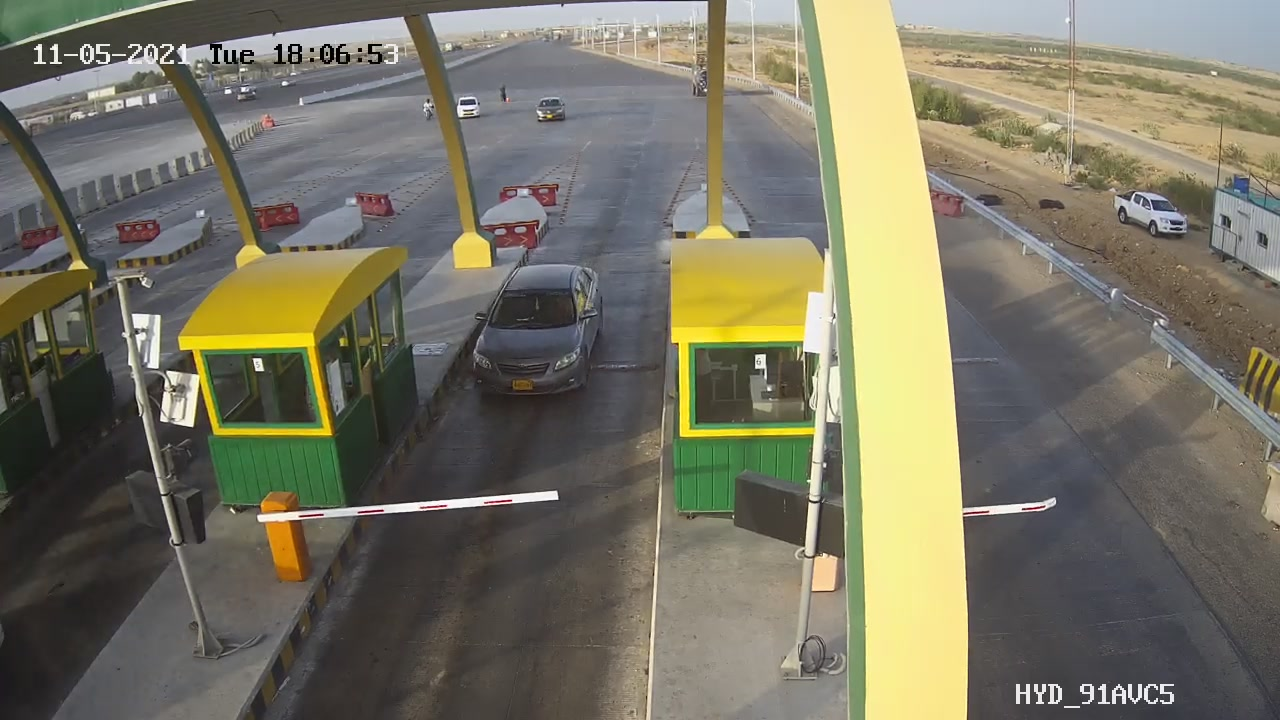F1: (458, 255, 627, 406)
